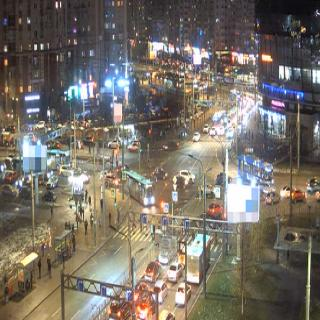large-vehicle: (239, 153, 274, 190), (187, 231, 211, 284), (125, 170, 156, 207), (42, 148, 72, 171), (14, 154, 41, 178), (213, 110, 222, 135)
small-vehicle: (107, 295, 132, 320), (136, 291, 156, 320), (131, 278, 149, 304), (168, 256, 184, 282), (176, 283, 192, 308), (145, 260, 162, 282), (153, 280, 168, 303), (1, 182, 16, 203), (199, 182, 217, 197), (267, 188, 280, 208), (282, 184, 298, 200), (179, 168, 195, 184), (159, 248, 174, 265), (290, 189, 307, 204), (105, 173, 119, 191), (99, 164, 112, 183), (75, 171, 94, 184), (173, 173, 189, 188), (306, 176, 320, 193), (45, 172, 58, 190), (154, 166, 168, 182), (20, 185, 34, 201), (217, 172, 232, 186), (164, 140, 179, 154), (158, 308, 175, 320), (42, 193, 59, 203), (60, 165, 74, 177), (0, 158, 9, 173), (226, 128, 234, 143), (192, 130, 200, 144), (202, 123, 210, 136), (230, 106, 237, 120), (217, 124, 223, 138), (220, 116, 229, 125), (236, 121, 243, 131), (210, 127, 216, 138), (246, 105, 252, 114), (237, 103, 243, 112), (242, 112, 246, 120)
